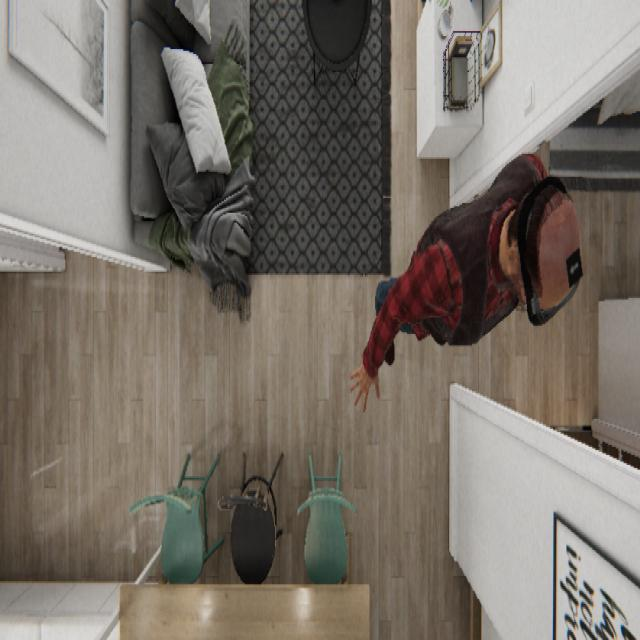Human: (348, 150, 584, 412)
UnityLogo: (564, 244, 584, 288)
